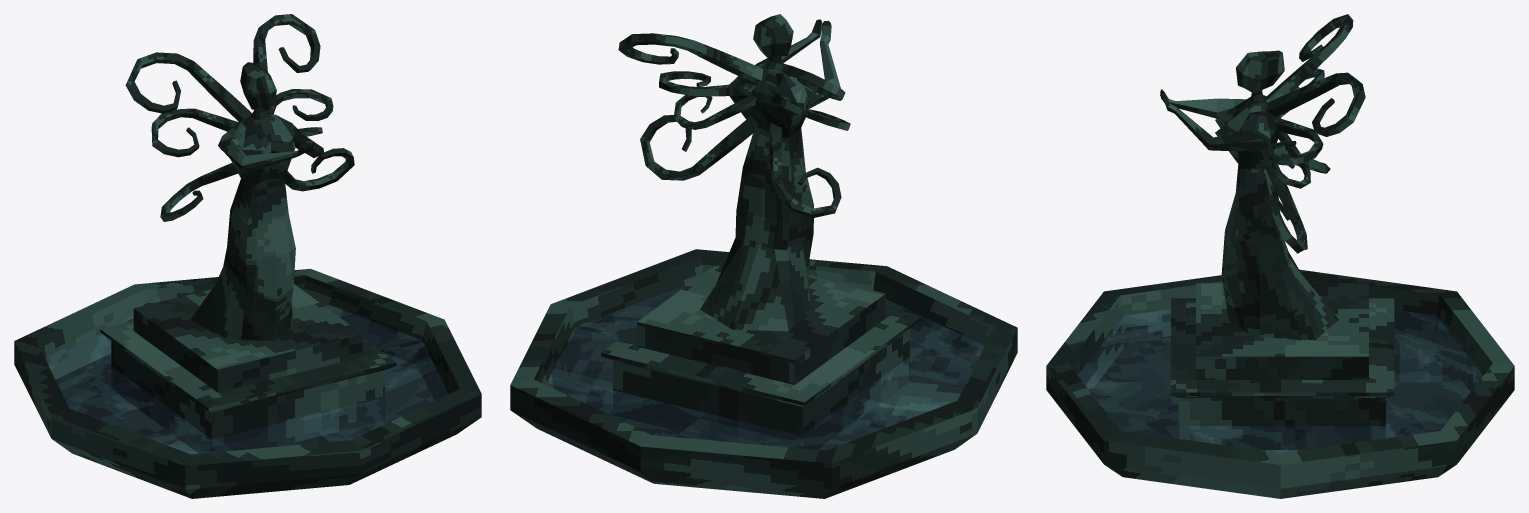
Rendered from Estatua-fuente.glb.
The picture shows the model from 3 angles, left to right: view 1: azimuth 30°, elevation 25°; view 2: azimuth 150°, elevation 25°; view 3: azimuth 270°, elevation 25°; orthographic projection. The views are drawn at different scales.
Parts seen in each view (by area): view 1: Mujer-col; view 2: Mujer-col; view 3: Mujer-col.
Boxes of the visible parts, bbox=[...] form: Mujer-col: bbox=[14, 14, 481, 498]; Mujer-col: bbox=[510, 14, 1017, 498]; Mujer-col: bbox=[1046, 14, 1514, 498].
Bounding box in the file's own units: 2.65 × 2.27 × 2.65.
Materials: 2 (2 with a texture image).
